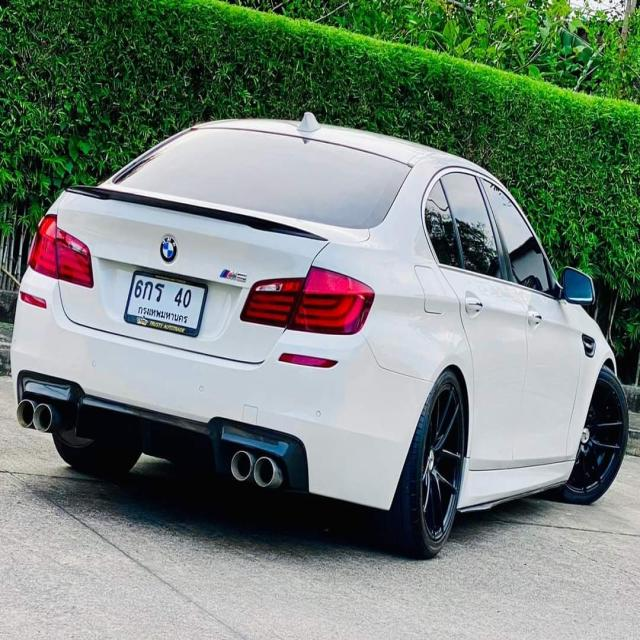license_plate: (122, 262, 208, 340)
